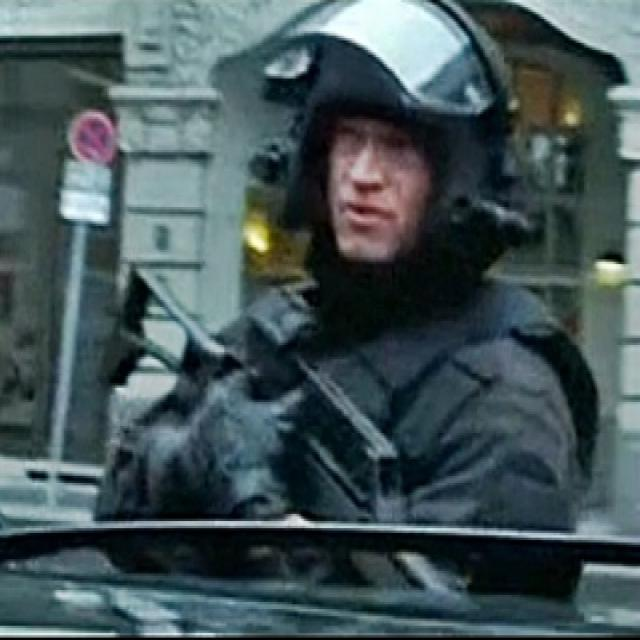rifle: (90, 257, 484, 612)
